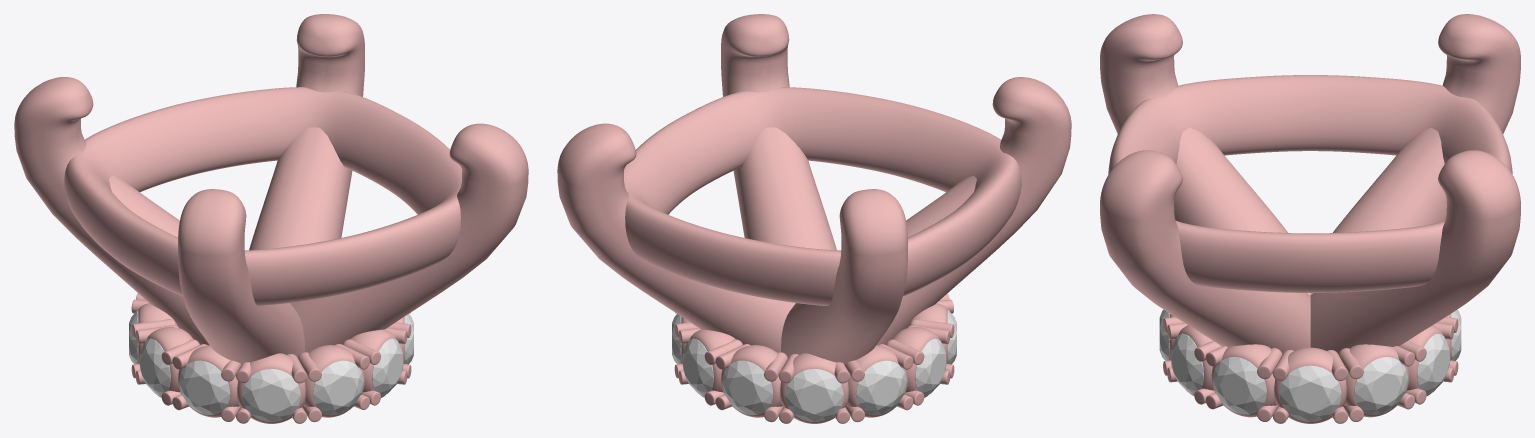
Rendered from CUSHION.glb.
3 views of the same model, side by side, from view 1: azimuth 30°, elevation 25°; view 2: azimuth 150°, elevation 25°; view 3: azimuth 270°, elevation 25° (orthographic). The views are drawn at different scales.
Parts seen in each view (by area): view 1: cushion.002, hidden halo.002, hidden halo - diamonds.002; view 2: cushion.002, hidden halo.002, hidden halo - diamonds.002; view 3: cushion.002, hidden halo - diamonds.002, hidden halo.002.
Part boxes in pixels (left/top/right/bottom): cushion.002: left=14, top=14, right=528, bottom=364; hidden halo.002: left=131, top=293, right=411, bottom=423; hidden halo - diamonds.002: left=129, top=309, right=413, bottom=422; cushion.002: left=557, top=14, right=1071, bottom=363; hidden halo.002: left=674, top=293, right=954, bottom=423; hidden halo - diamonds.002: left=672, top=309, right=956, bottom=422; cushion.002: left=1100, top=14, right=1520, bottom=353; hidden halo - diamonds.002: left=1159, top=309, right=1461, bottom=421; hidden halo.002: left=1163, top=314, right=1458, bottom=423.
Bounding box in the file's own units: 5.25 × 4.3 × 5.24.
